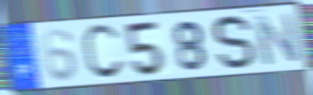5: (124, 18, 167, 78)
6: (40, 27, 80, 84)
8: (173, 19, 209, 73)
C: (80, 22, 127, 82)
N: (251, 11, 303, 68)
S: (210, 13, 258, 73)
